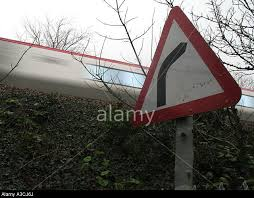Bend_to_right: (131, 6, 241, 127)
